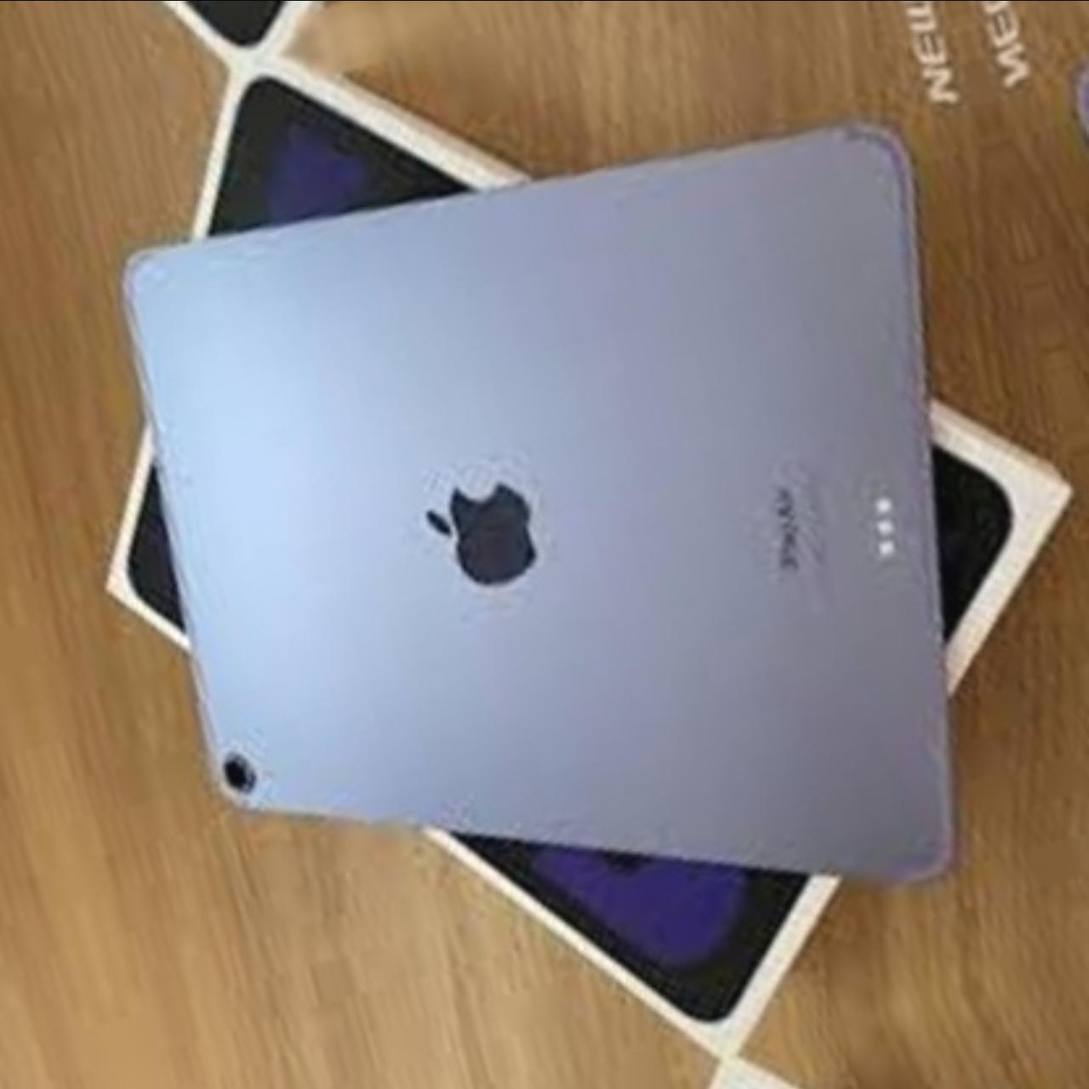Tablet_PC: (53, 21, 1089, 1068)
